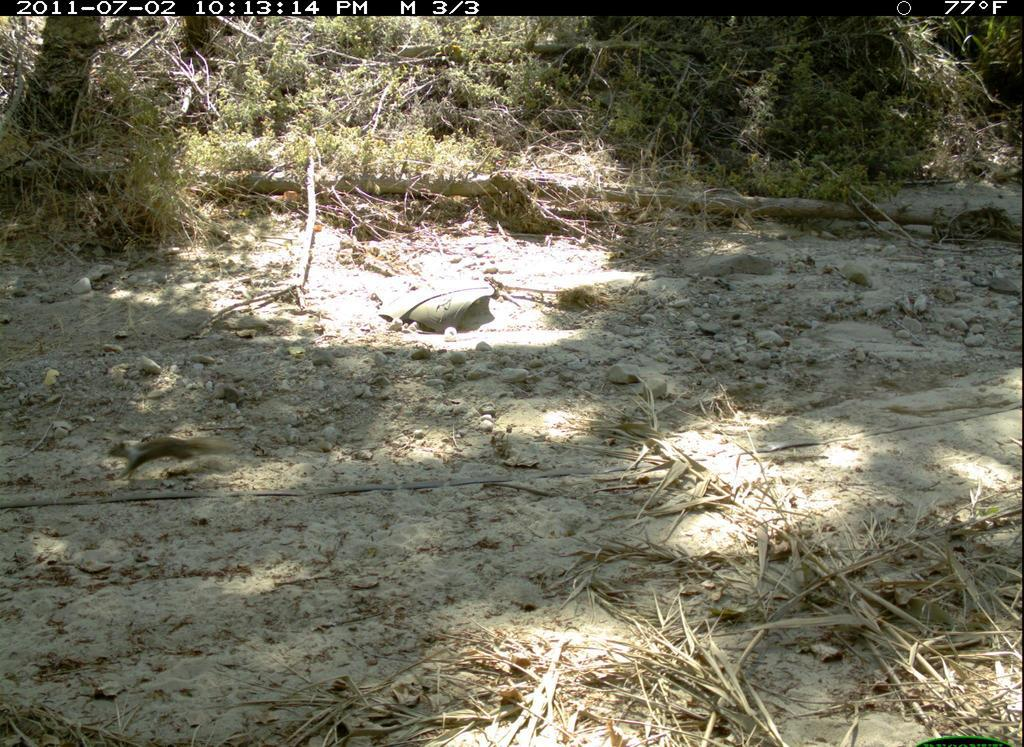squirrel: (82, 408, 253, 511)
